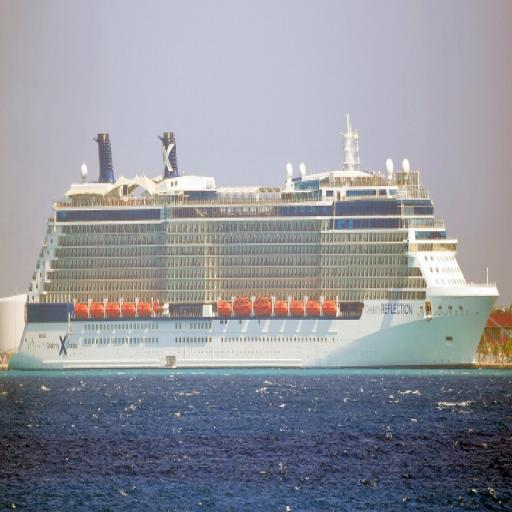cruises: (15, 95, 500, 387)
